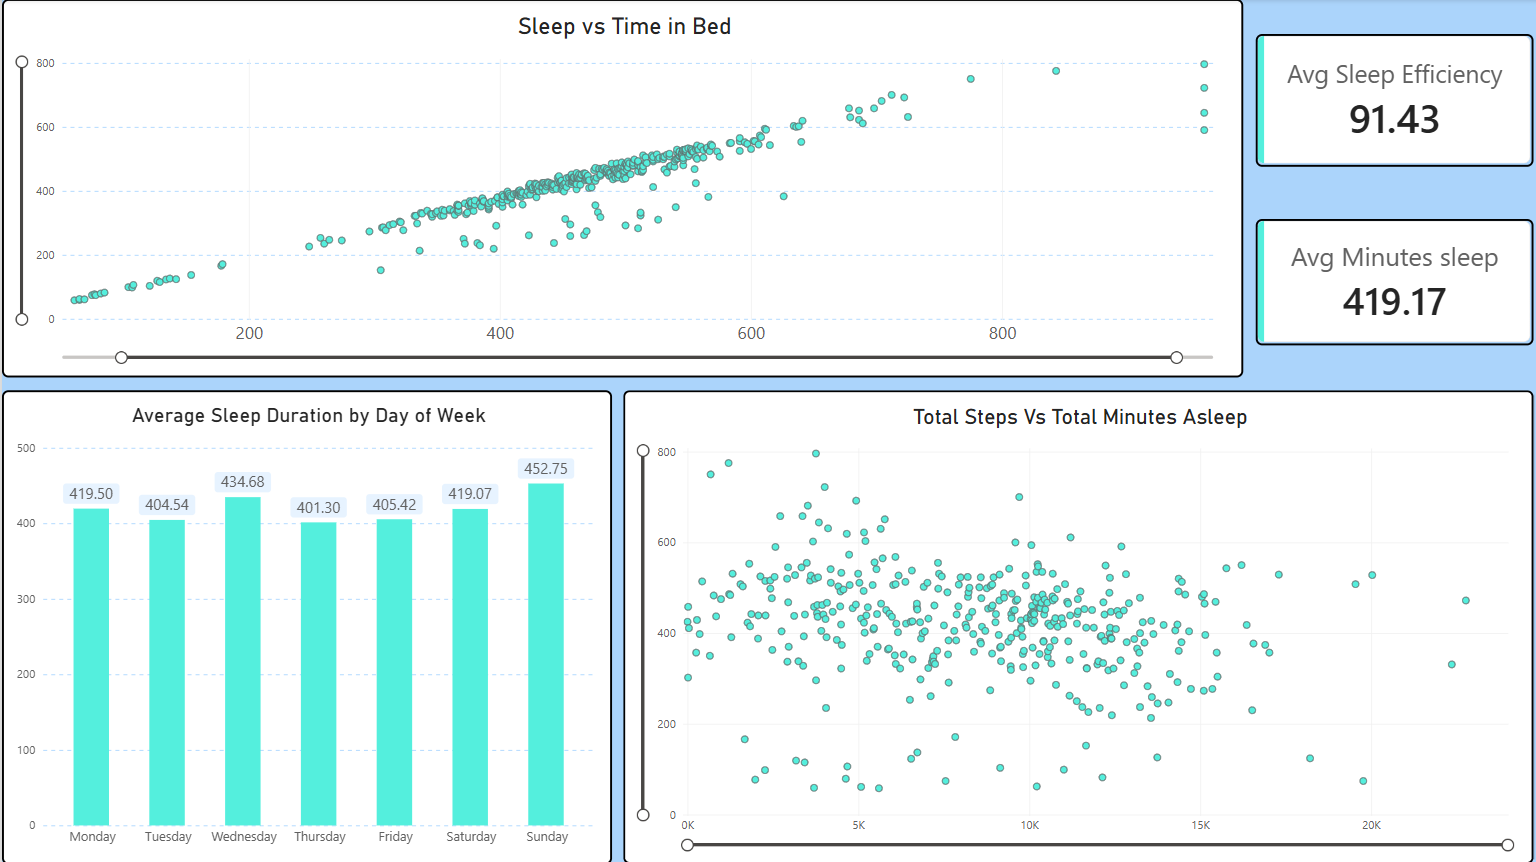

This screenshot's page, from the dashboard's own definition file:
{"tool":"powerbi","page":{"name":"Sleep & Wellness","canvas":[1920,1080],"ordinal":2},"visuals":[{"type":"scatterChart","title":"Sleep vs Time in Bed","fields":{"X":["dailysleep cleaned csv.TotalTimeInBed"],"Y":["dailysleep cleaned csv.TotalMinutesAsleep"]},"box":[0,0,1548.4,472.1],"z":0},{"type":"clusteredColumnChart","title":"Average Sleep Duration by Day of Week","fields":{"Category":["dailysleep cleaned csv.Day Of Week"],"Y":["Avg(dailysleep cleaned csv.TotalMinutesAsleep)"]},"box":[0,487.2,761,592.9],"z":1000},{"type":"cardVisual","fields":{"Data":["dailysleep cleaned csv.Avg Sleep Efficiency"]},"box":[1563.6,43.6,346.1,165.2],"z":2000},{"type":"scatterChart","title":"Total Steps Vs Total Minutes Asleep","fields":{"X":["duplicate daily activity combined csv 3 (2).TotalSteps"],"Y":["Avg(duplicate daily activity combined csv 3 (2).dailysleep cleaned csv.TotalMinutesAsleep)"]},"box":[774.8,487.9,1134.9,592.4],"z":3000},{"type":"cardVisual","fields":{"Data":["Avg(dailysleep cleaned csv.TotalMinutesAsleep)"]},"box":[1563.6,274.4,346.1,157.4],"z":4000}]}

Visuals, with their boxes in screenshot pixels (x1, y1, x2, y2), scaled from the page's 1920x1080 canvas onto the 1536x862 screenshot:
"Sleep vs Time in Bed" scatterChart: 0 0 1239 377
"Average Sleep Duration by Day of Week" clusteredColumnChart: 0 389 609 861
cardVisual - dailysleep cleaned csv.Avg Sleep Efficiency: 1251 35 1528 167
"Total Steps Vs Total Minutes Asleep" scatterChart: 620 389 1528 861
cardVisual - Avg(dailysleep cleaned csv.TotalMinutesAsleep): 1251 219 1528 345
